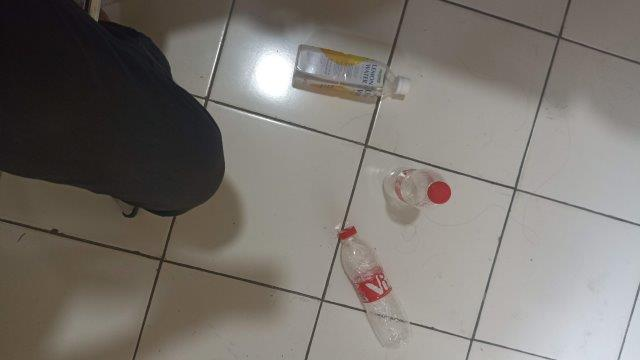botolplastik: (338, 228, 409, 346), (296, 44, 411, 104), (382, 166, 450, 207)
